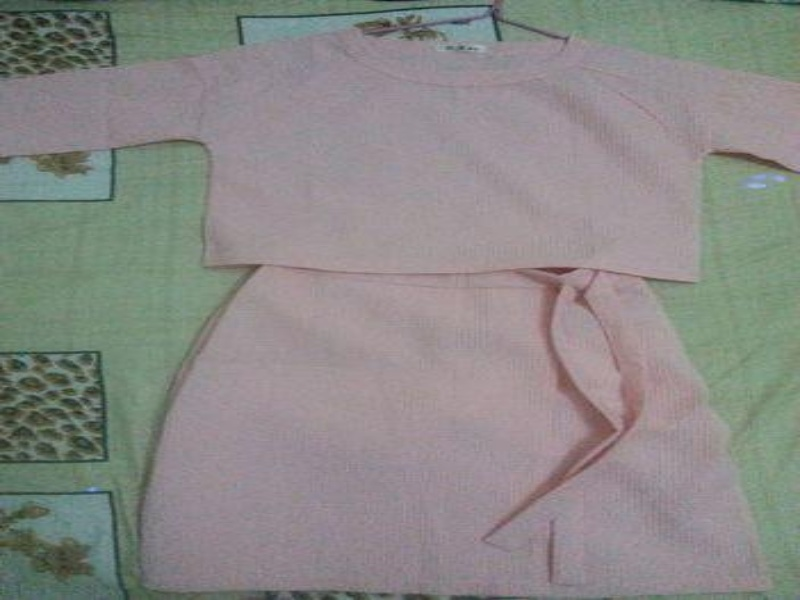short_sleeved_shirt: (0, 22, 798, 291)
skirt: (125, 231, 798, 599)
